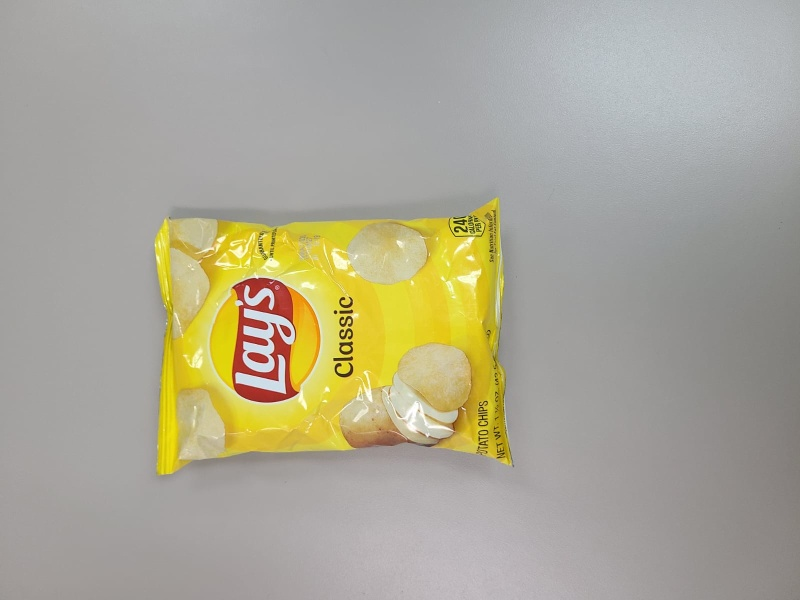lays: (153, 189, 512, 474)
